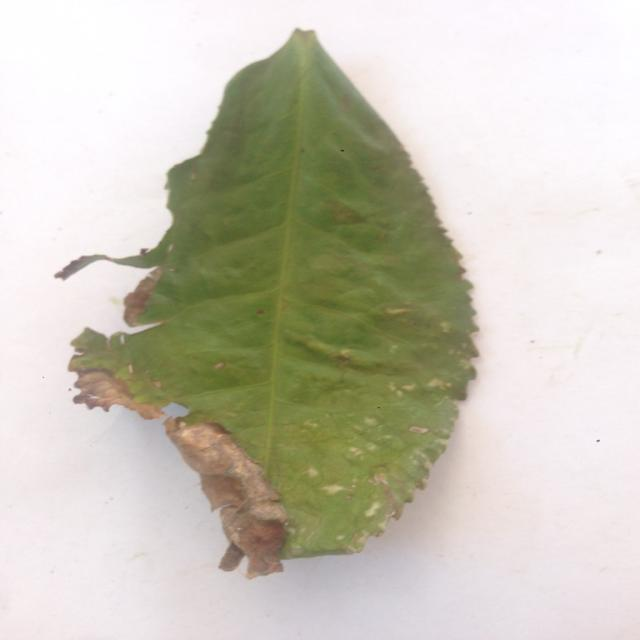Brown Blight: (95, 24, 495, 572)
